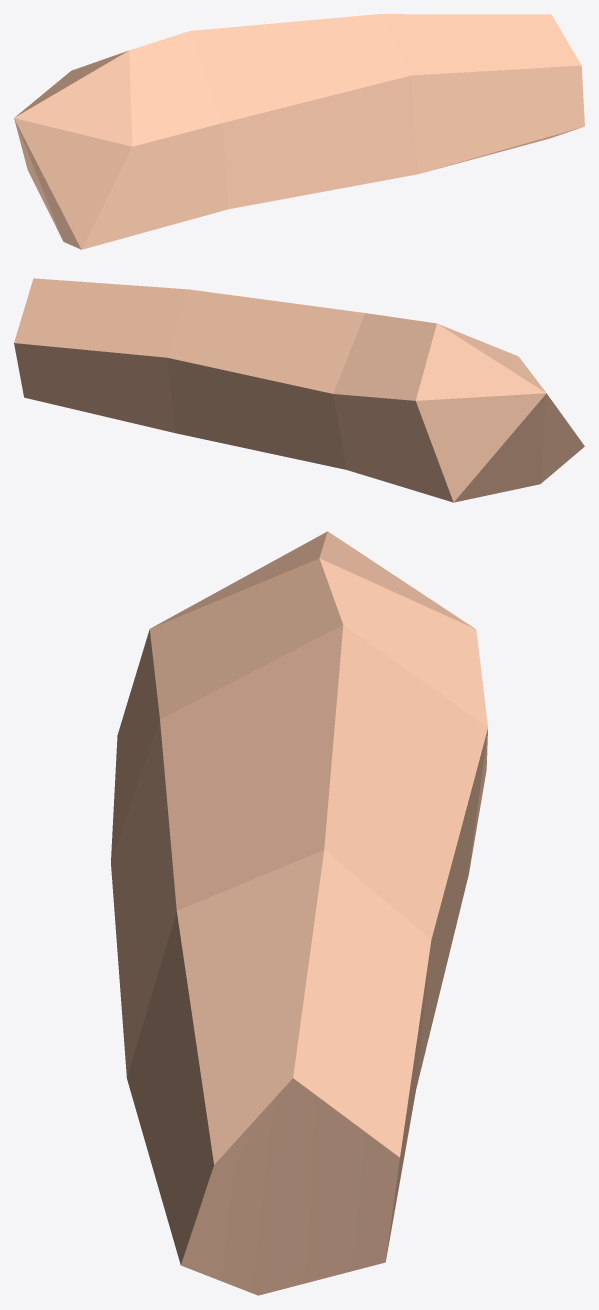
File: Chr_ArmUpperLeft_Female_00_Static.fbx
The picture shows the model from 3 angles, top to bottom: view 1: azimuth 30°, elevation 25°; view 2: azimuth 150°, elevation 25°; view 3: azimuth 270°, elevation 25°; orthographic projection. The views are drawn at different scales.
Visible parts, largest first — view 1: Chr_ArmUpperLeft_Female_00_Static; view 2: Chr_ArmUpperLeft_Female_00_Static; view 3: Chr_ArmUpperLeft_Female_00_Static.
Boxes of the visible parts, left/top/right/bottom form: Chr_ArmUpperLeft_Female_00_Static: left=14, top=14, right=584, bottom=249; Chr_ArmUpperLeft_Female_00_Static: left=14, top=278, right=584, bottom=502; Chr_ArmUpperLeft_Female_00_Static: left=111, top=531, right=487, bottom=1295.
Size of the model in its own units: 0.3512 by 0.1103 by 0.1078.
